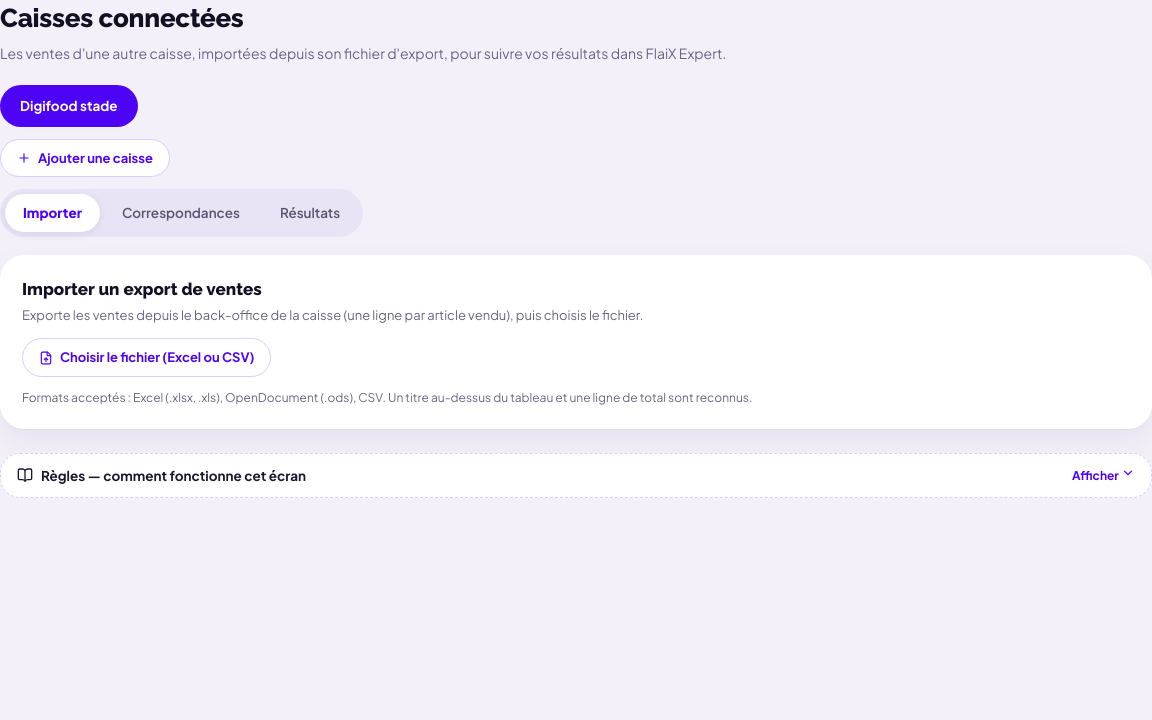
Test case: caisses connectées › produit rapproché d'un produit FlaiX Expert ; résultats avec la marge estimée
Click the button "Correspondances": click(181, 213) [104,194,258,232]
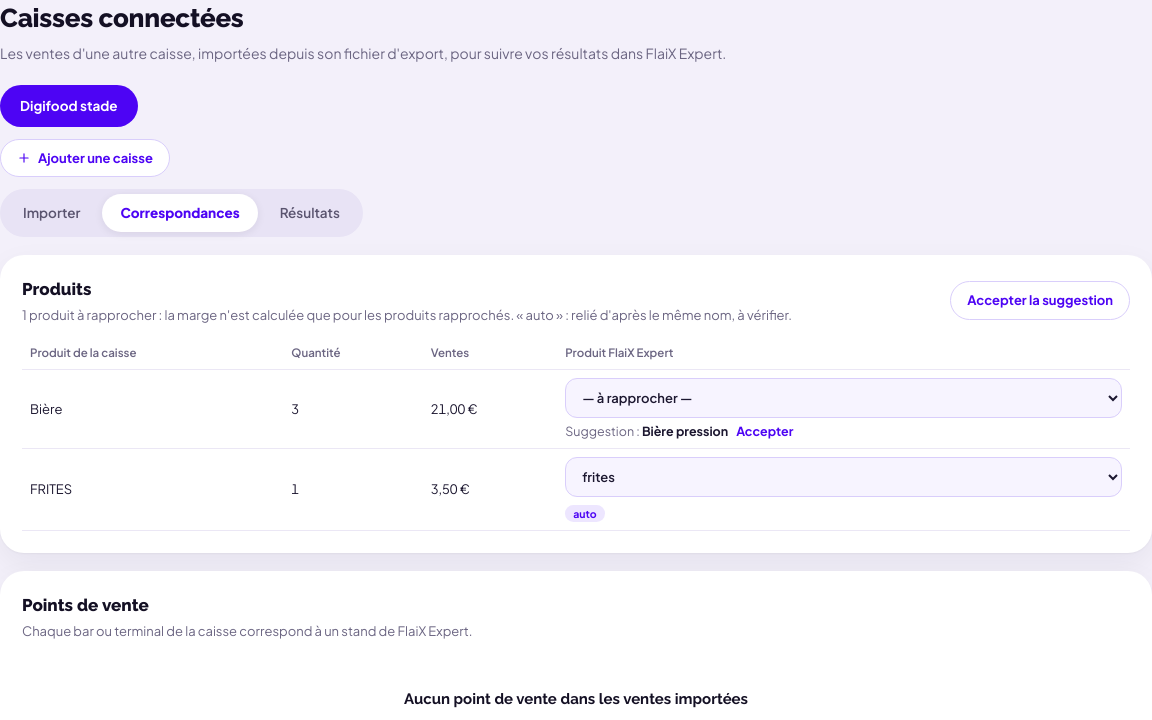
Select "Bière pression" in the dropdown named "Correspondance : Bière": (844, 398) [565,378,1122,418]
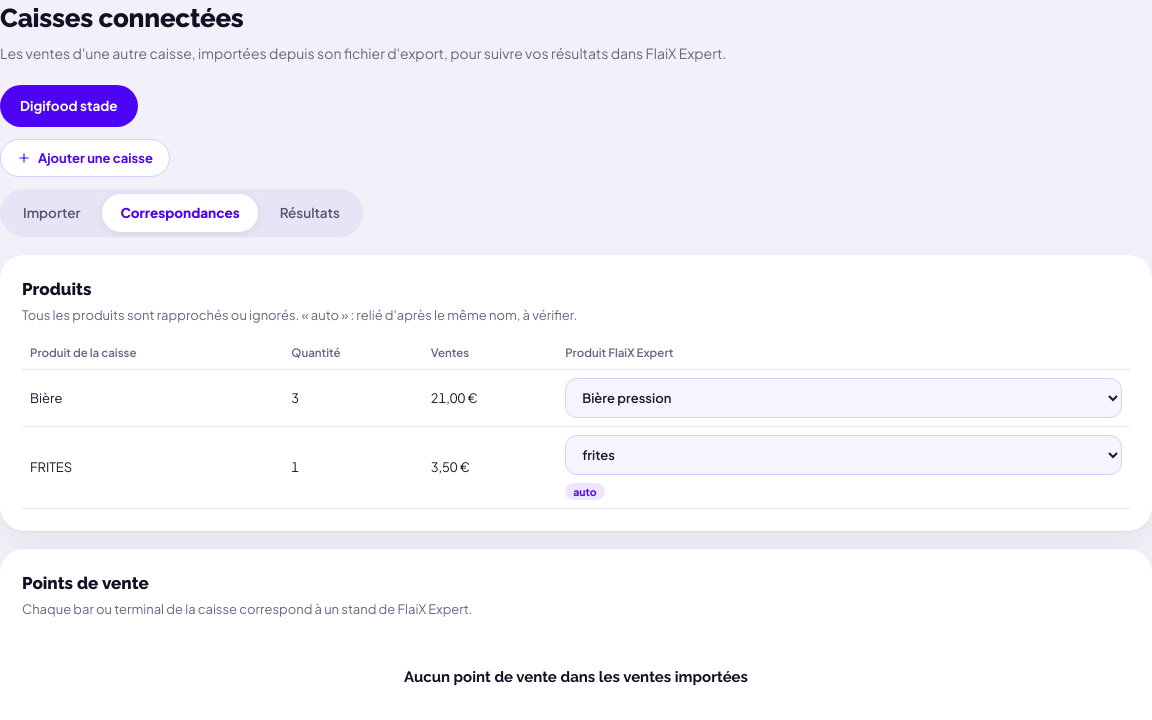
Click the button "Résultats": click(310, 213) [262,194,358,232]
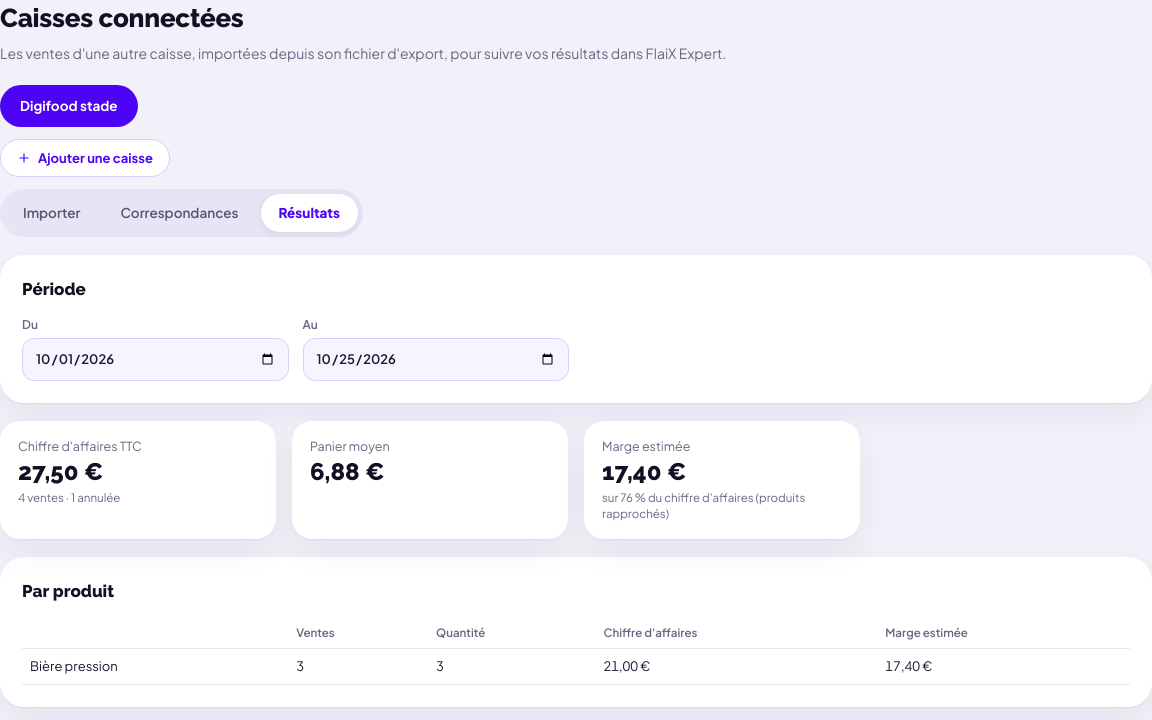
Result: the text "Marge estimée" is shown at [602,438,690,454]
Result: the text "17,40 €" is shown at [602,457,686,486]
Result: the text "sur 76 % du chiffre d'affaires (produits rapprochés)" is shown at [602,490,805,522]
